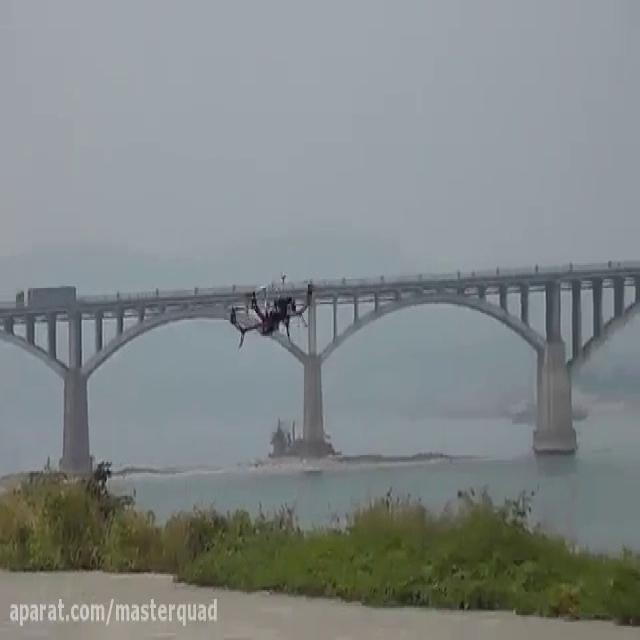drone: (225, 270, 316, 350)
